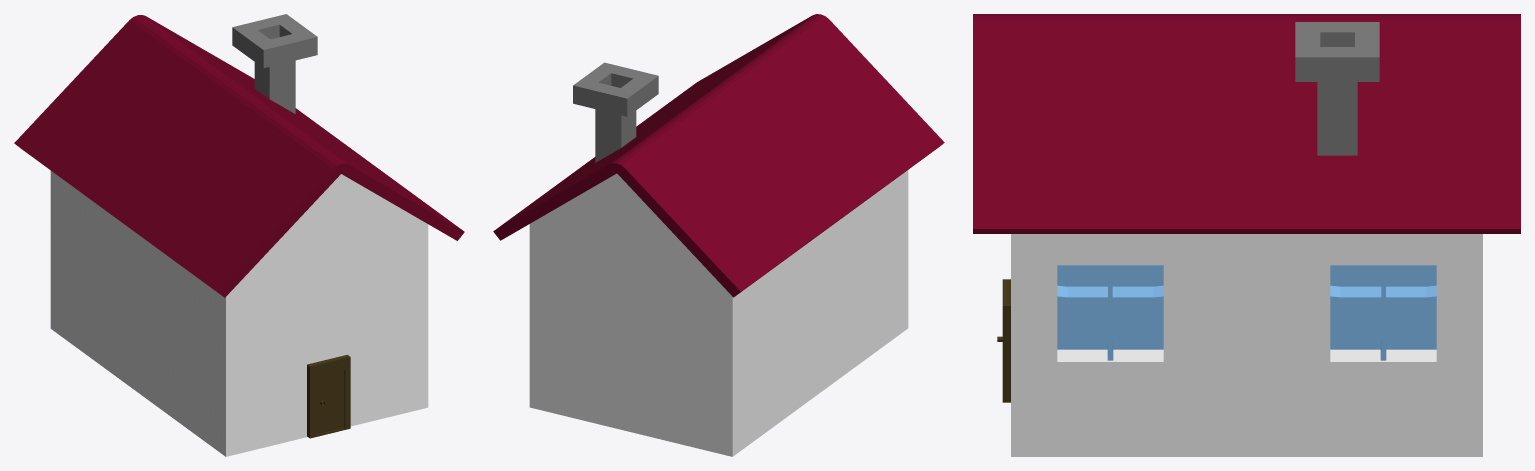
File: Home.fbx
3 renders of one model, left to right at view 1: azimuth 30°, elevation 25°; view 2: azimuth 150°, elevation 25°; view 3: azimuth 270°, elevation 25°, orthographic. The views are drawn at different scales.
Visible parts, largest first — view 1: Base, Roof, Chimney, Door; view 2: Base, Roof, Chimney; view 3: Roof, Base, Windows, Chimney, Door.
Part boxes in pixels (x1=…): Base: x1=50, y1=171, x2=428, y2=456; Roof: x1=14, y1=15, x2=464, y2=297; Chimney: x1=232, y1=14, x2=317, y2=113; Door: x1=307, y1=354, x2=350, y2=438; Base: x1=529, y1=170, x2=908, y2=456; Roof: x1=493, y1=14, x2=944, y2=297; Chimney: x1=573, y1=62, x2=658, y2=162; Roof: x1=973, y1=14, x2=1520, y2=233; Base: x1=1011, y1=234, x2=1482, y2=456; Windows: x1=1057, y1=265, x2=1436, y2=360; Chimney: x1=1295, y1=22, x2=1379, y2=155; Door: x1=997, y1=279, x2=1010, y2=402.
Bounding box in the file's own units: 489 × 556 × 696.
